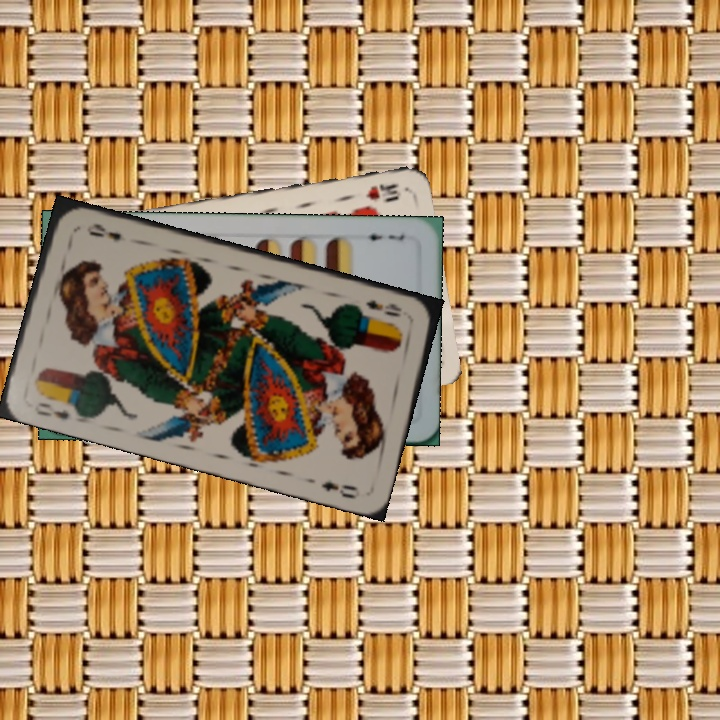E7: (357, 230, 407, 244)
EO: (362, 296, 404, 320), (30, 398, 72, 422)
H10: (362, 179, 403, 203)
